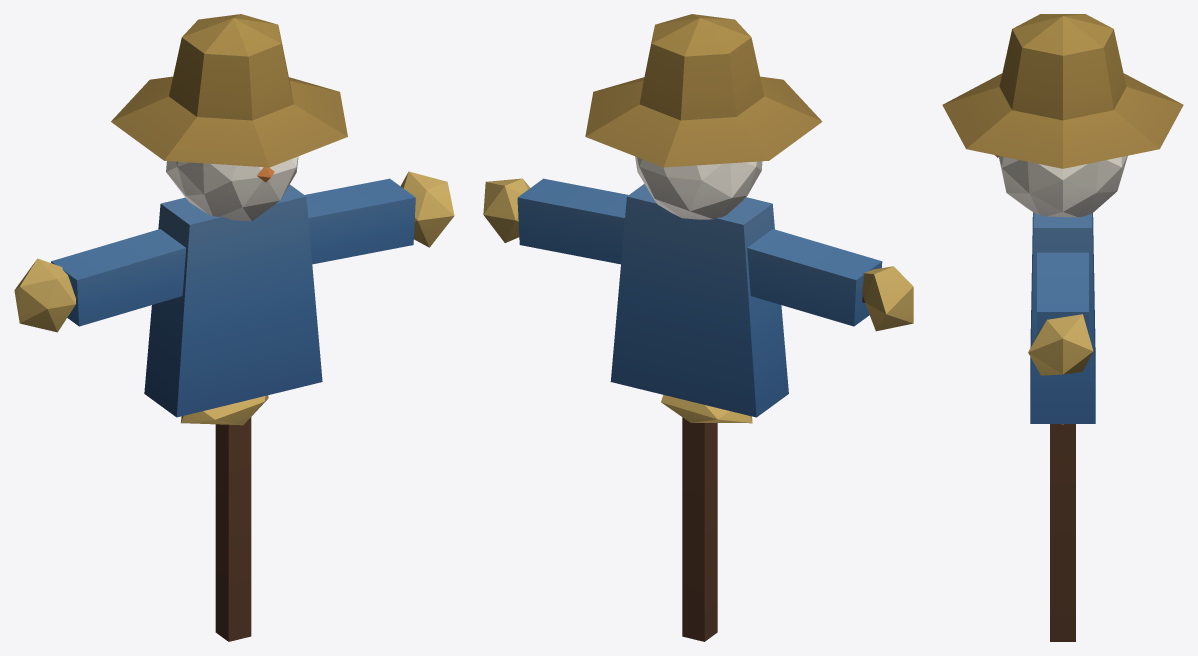
File: scarecrow.glb
The picture shows the model from 3 angles, left to right: view 1: azimuth 30°, elevation 25°; view 2: azimuth 150°, elevation 25°; view 3: azimuth 270°, elevation 25°; orthographic projection.
Visible parts, largest first — view 1: scarecrow; view 2: scarecrow; view 3: scarecrow.
Boxes of the visible parts, x1,y1,x2,y2 form: scarecrow: (14, 14, 454, 641); scarecrow: (483, 14, 913, 641); scarecrow: (942, 14, 1183, 641).
Bounding box in the file's own units: 7.63 × 10.5 × 3.7.
Materials: 1 (1 with a texture image).
